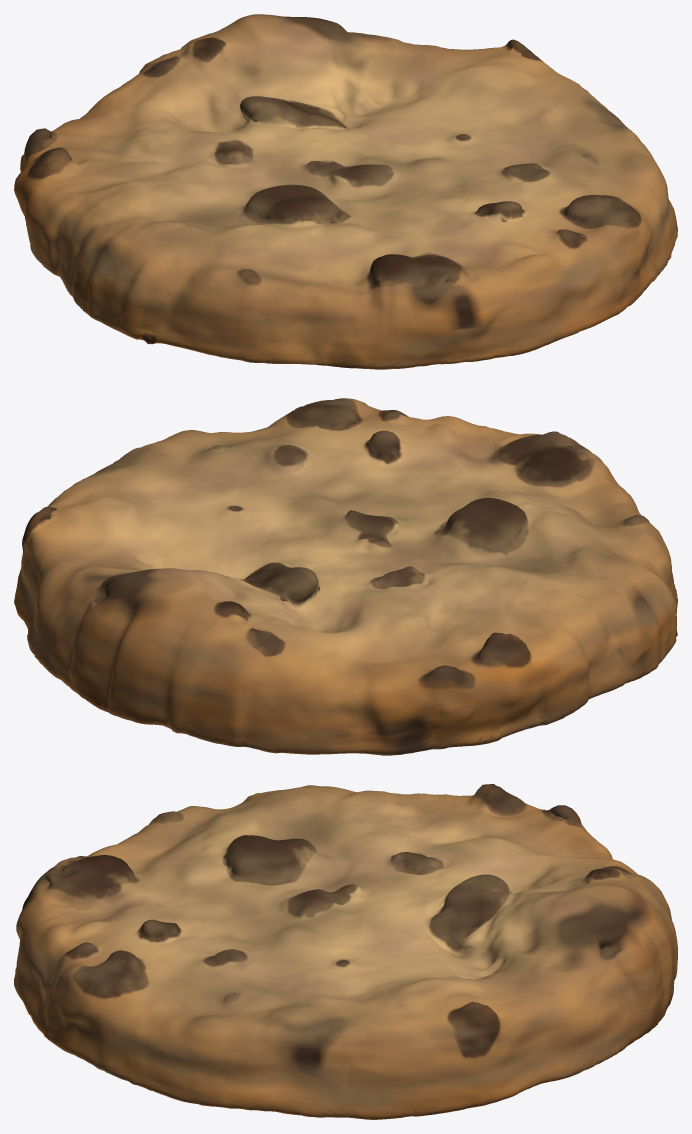
Rendered from cookie_realista.glb.
The picture shows the model from 3 angles, top to bottom: view 1: azimuth 30°, elevation 25°; view 2: azimuth 150°, elevation 25°; view 3: azimuth 270°, elevation 25°; orthographic projection. The views are drawn at different scales.
Parts seen in each view (by area): view 1: Object_2; view 2: Object_2; view 3: Object_2.
Part boxes in pixels (<box>): Object_2: <box>14,14,677,369</box>; Object_2: <box>14,398,677,755</box>; Object_2: <box>14,784,677,1119</box>.
Bounding box in the file's own units: 0.0646 × 0.0135 × 0.066.
1 material, 1 textured.
